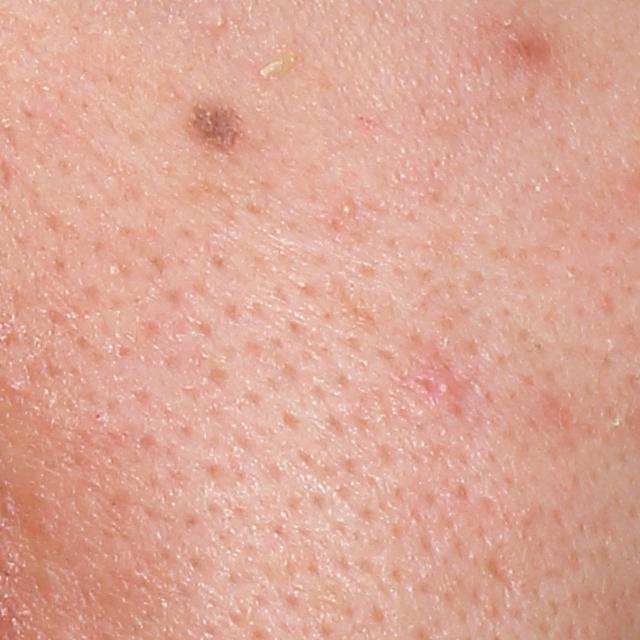atrophic_scar: (482, 549, 522, 607)
comedo: (210, 9, 232, 31), (339, 200, 356, 216)
papule: (509, 31, 541, 67)
